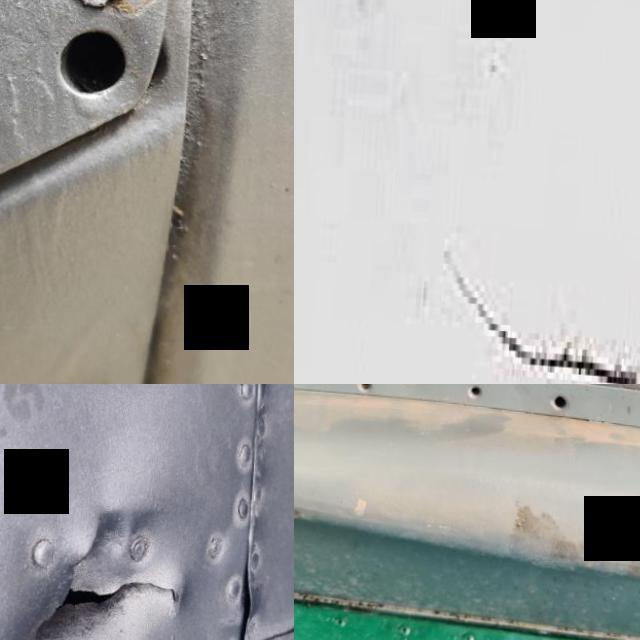Crack: (0, 495, 277, 640), (421, 259, 640, 384)
Missing_Fastener: (0, 0, 196, 163), (540, 384, 585, 417), (458, 384, 495, 404), (349, 384, 390, 400)
